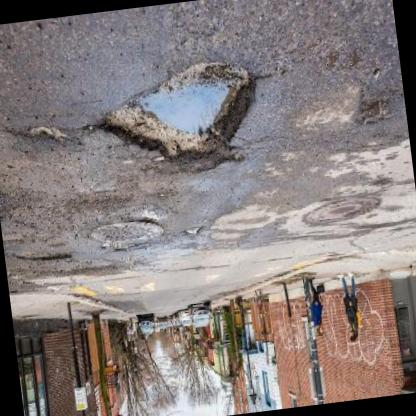pothole: (95, 52, 269, 186), (351, 89, 395, 130), (11, 242, 74, 270), (26, 121, 69, 149), (182, 224, 206, 240)
